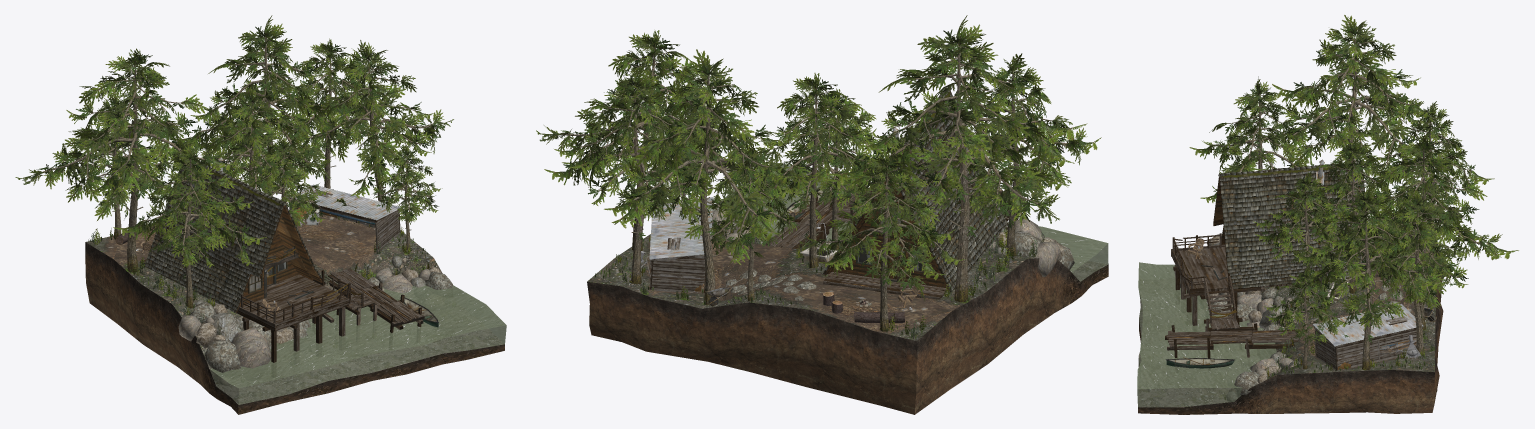
Rendered from Diorama_Good_Final.fbx.
The picture shows the model from 3 angles, left to right: view 1: azimuth 30°, elevation 25°; view 2: azimuth 150°, elevation 25°; view 3: azimuth 270°, elevation 25°; orthographic projection. The views are drawn at different scales.
Visible parts, largest first — view 1: trees, ground, main_building1, dock, shed_done, rocks_2, rocks_1, rocks_3, rocks_4, canoe, pPlane1; view 2: trees, ground, main_building1, shed_done, dock, rocks_2, foliage, rocks_1; view 3: trees, ground, main_building1, dock, shed_done, rocks_1, rocks_2, rocks_3, canoe, rocks_4, foliage, pPlane1.
Boxes of the visible parts, x1,y1,x2,y2 form: trees: [15, 15, 453, 334]; ground: [85, 214, 506, 414]; main_building1: [144, 157, 326, 313]; dock: [140, 258, 424, 362]; shed_done: [287, 184, 400, 251]; rocks_2: [178, 267, 430, 385]; rocks_1: [188, 271, 452, 372]; rocks_3: [196, 257, 441, 348]; rocks_4: [195, 256, 425, 342]; canoe: [319, 209, 438, 327]; pPlane1: [192, 163, 361, 306]; trees: [536, 15, 1101, 338]; ground: [587, 162, 1108, 414]; main_building1: [823, 87, 1008, 292]; shed_done: [646, 197, 713, 292]; dock: [765, 175, 1017, 299]; rocks_2: [712, 210, 1060, 277]; foliage: [595, 213, 1031, 339]; rocks_1: [712, 204, 1074, 269]; trees: [1189, 15, 1518, 399]; ground: [1137, 227, 1443, 414]; main_building1: [1201, 159, 1371, 289]; dock: [1165, 233, 1381, 358]; shed_done: [1312, 304, 1423, 370]; rocks_1: [1208, 287, 1285, 397]; rocks_2: [1174, 265, 1292, 376]; rocks_3: [1206, 234, 1297, 391]; canoe: [1165, 343, 1397, 368]; rocks_4: [1213, 242, 1299, 401]; foliage: [1267, 287, 1435, 378]; pPlane1: [1182, 166, 1356, 317].
Bounding box in the file's own units: 3246 × 2065 × 2584.
